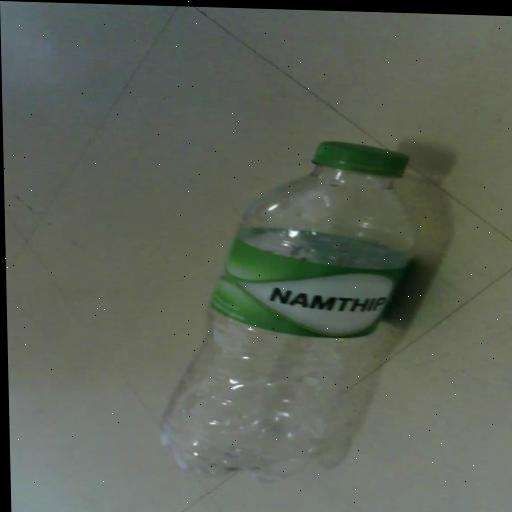bottle: (137, 117, 472, 512)
